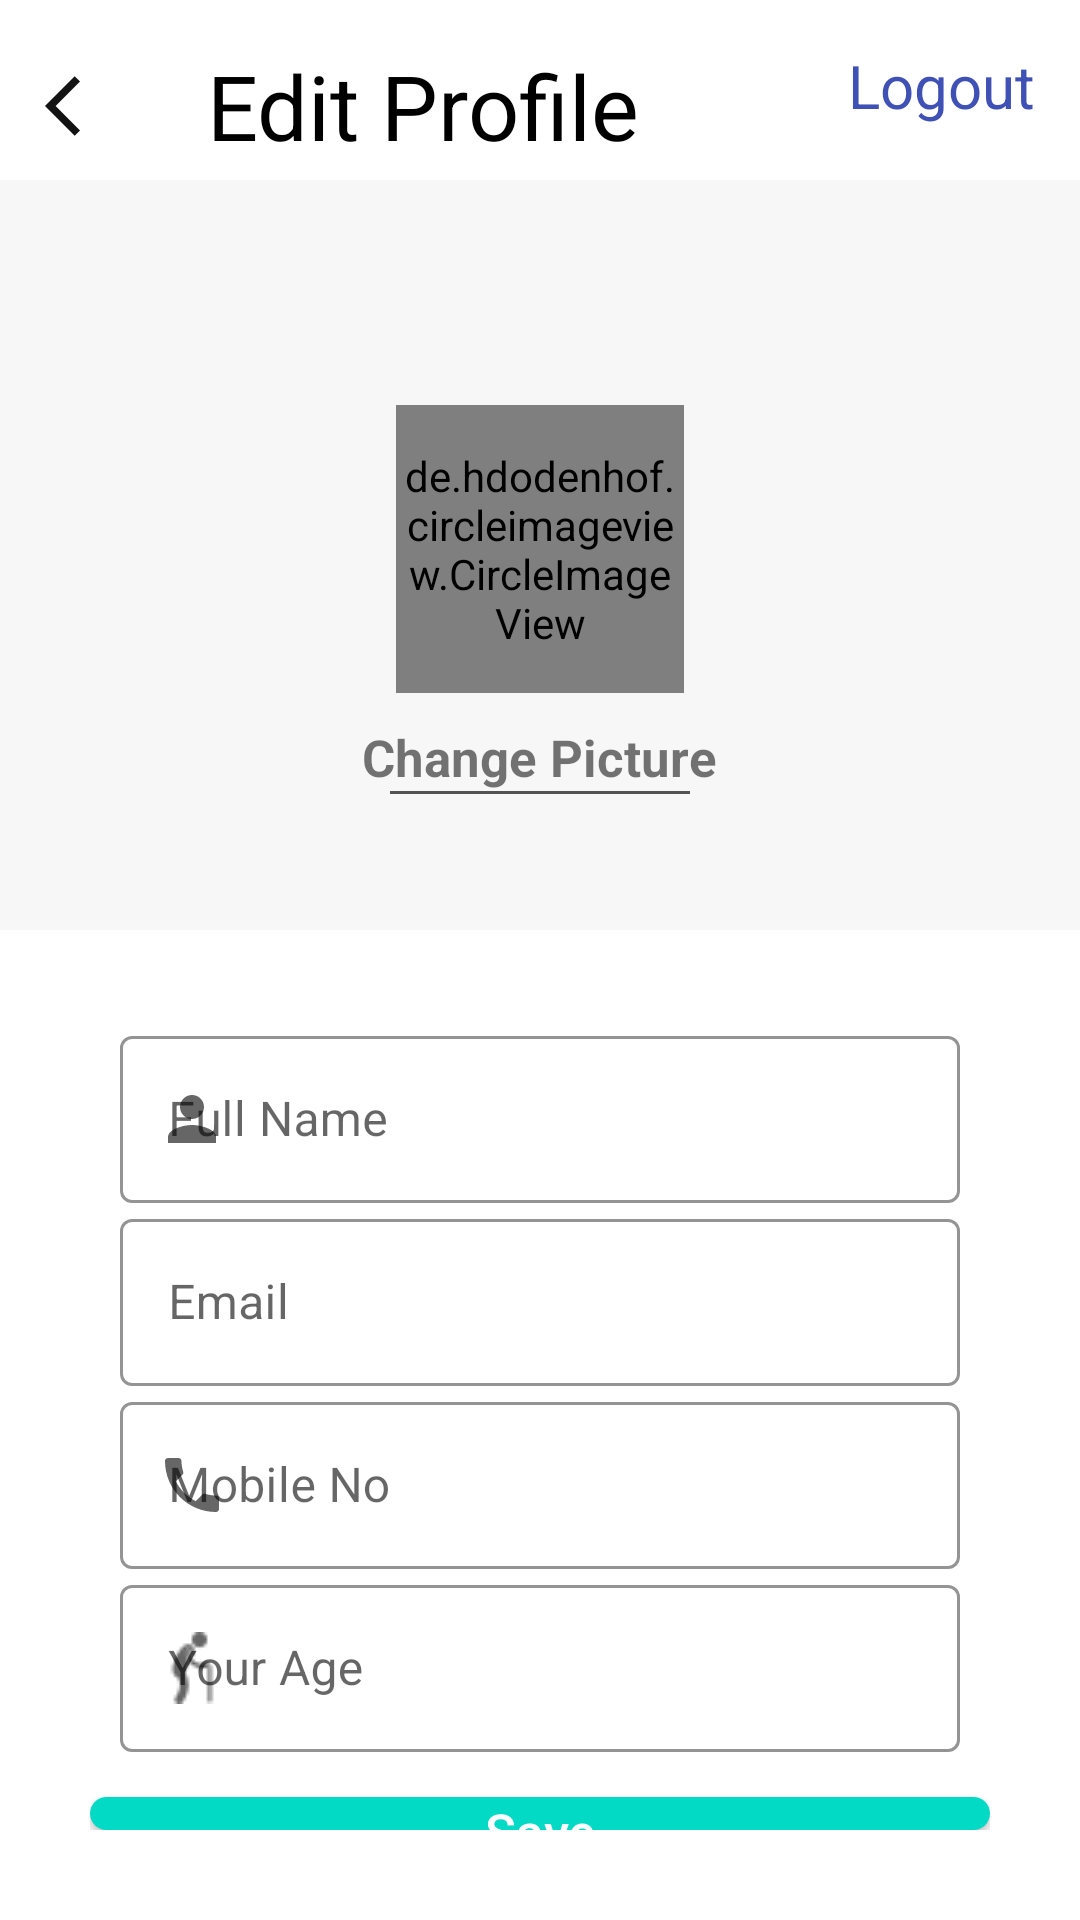

Icon bounding boxes for this 1080px x 1920px phone screenshot, format (x1, y1, x2, y2):
arrow back: (45, 76, 80, 136)
